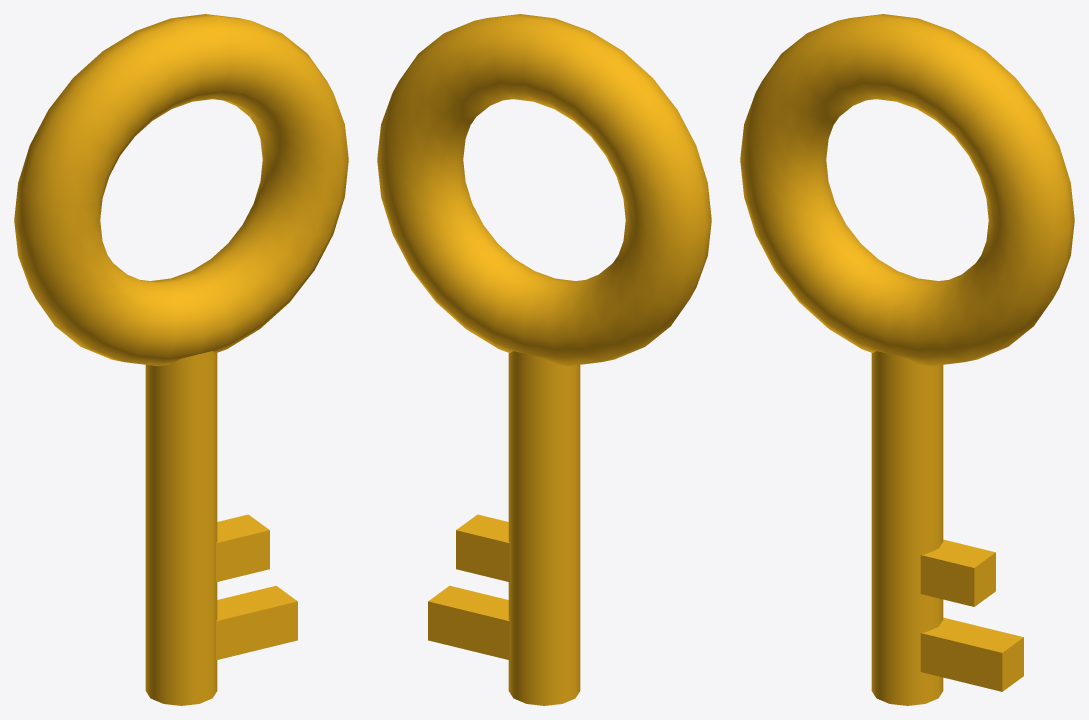
File: key.glb
3 renders of one model, left to right at view 1: azimuth 30°, elevation 25°; view 2: azimuth 150°, elevation 25°; view 3: azimuth 330°, elevation 25°, orthographic.
Bounding box in the file's own units: 0.52 × 1.03 × 0.12.
